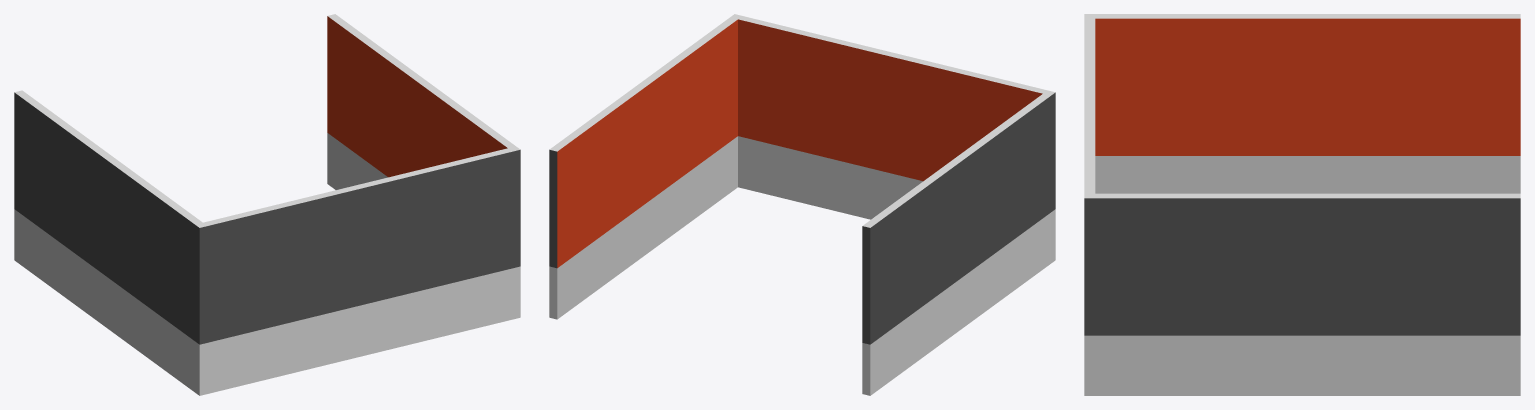
File: 大厦崩塌补三个墙.fbx
3 renders of one model, left to right at view 1: azimuth 30°, elevation 25°; view 2: azimuth 150°, elevation 25°; view 3: azimuth 270°, elevation 25°, orthographic. The views are drawn at different scales.
Parts seen in each view (by area): view 1: 平面.002, 平面.003, 平面.004; view 2: 平面.002, 平面.004, 平面.003; view 3: 平面.004, 平面.003, 平面.002.
Boxes of the visible parts, left/top/right/bottom form: 平面.002: left=195, top=148, right=512, bottom=395; 平面.003: left=14, top=90, right=202, bottom=392; 平面.004: left=327, top=14, right=520, bottom=319; 平面.002: left=738, top=16, right=1055, bottom=263; 平面.004: left=549, top=14, right=741, bottom=319; 平面.003: left=862, top=94, right=1050, bottom=395; 平面.004: left=1084, top=193, right=1520, bottom=395; 平面.003: left=1095, top=14, right=1520, bottom=193; 平面.002: left=1084, top=14, right=1095, bottom=193.
Bounding box in the file's own units: 4 × 2 × 4.
